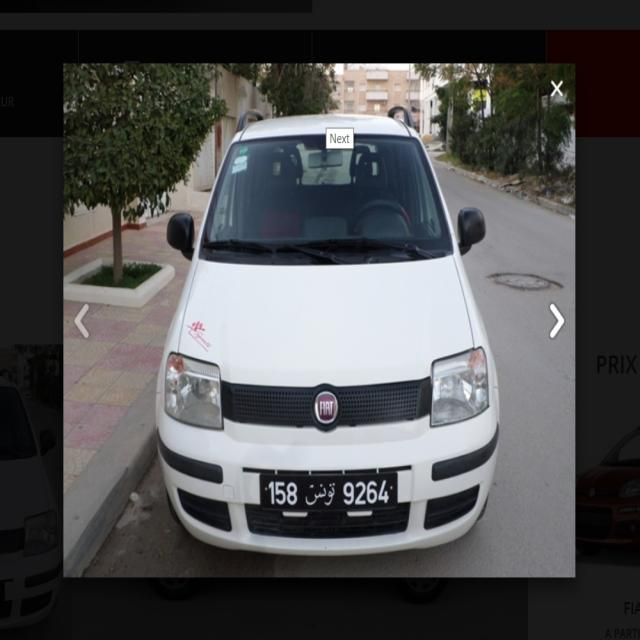LP: (258, 470, 401, 512)
